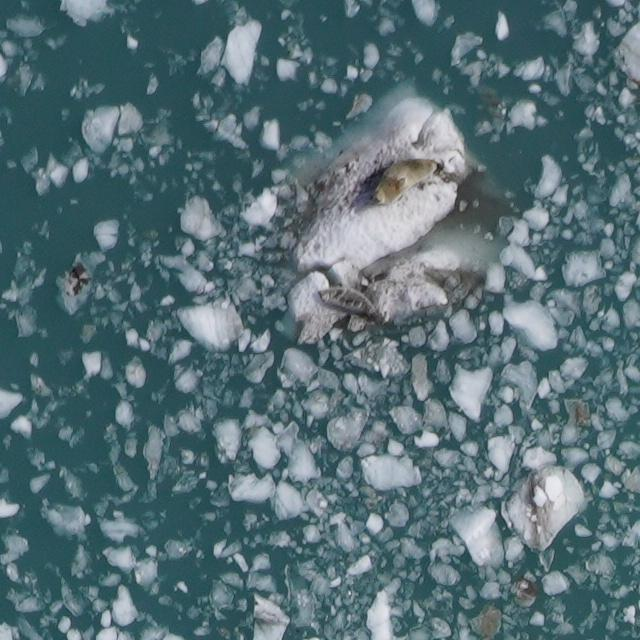seal: (372, 159, 440, 207)
